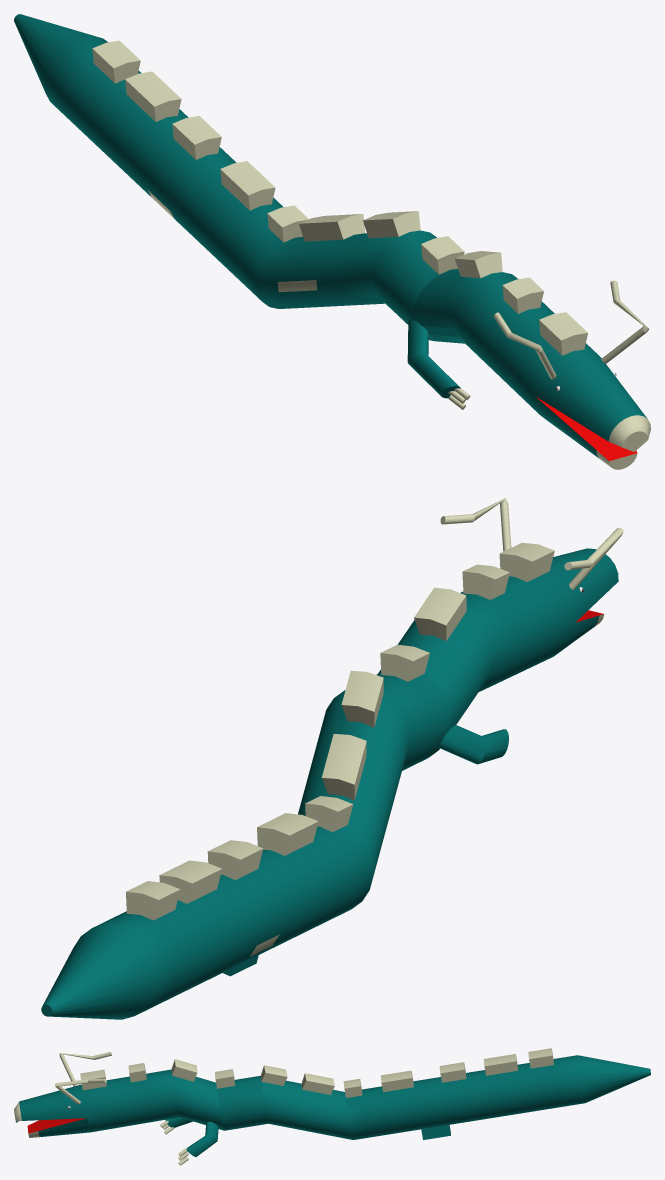
The model's file is Blue Dragon.fbx.
3 renders of one model, top to bottom at view 1: azimuth 30°, elevation 25°; view 2: azimuth 150°, elevation 25°; view 3: azimuth 270°, elevation 25°, orthographic. The views are drawn at different scales.
Visible parts, largest first — view 1: pCylinder50; view 2: pCylinder50; view 3: pCylinder50.
Boxes of the visible parts, bbox=[...] form: pCylinder50: bbox=[14, 14, 650, 469]; pCylinder50: bbox=[41, 498, 623, 1019]; pCylinder50: bbox=[14, 1048, 650, 1165].
Bounding box in the file's own units: 4.53 × 4.12 × 26.07.
